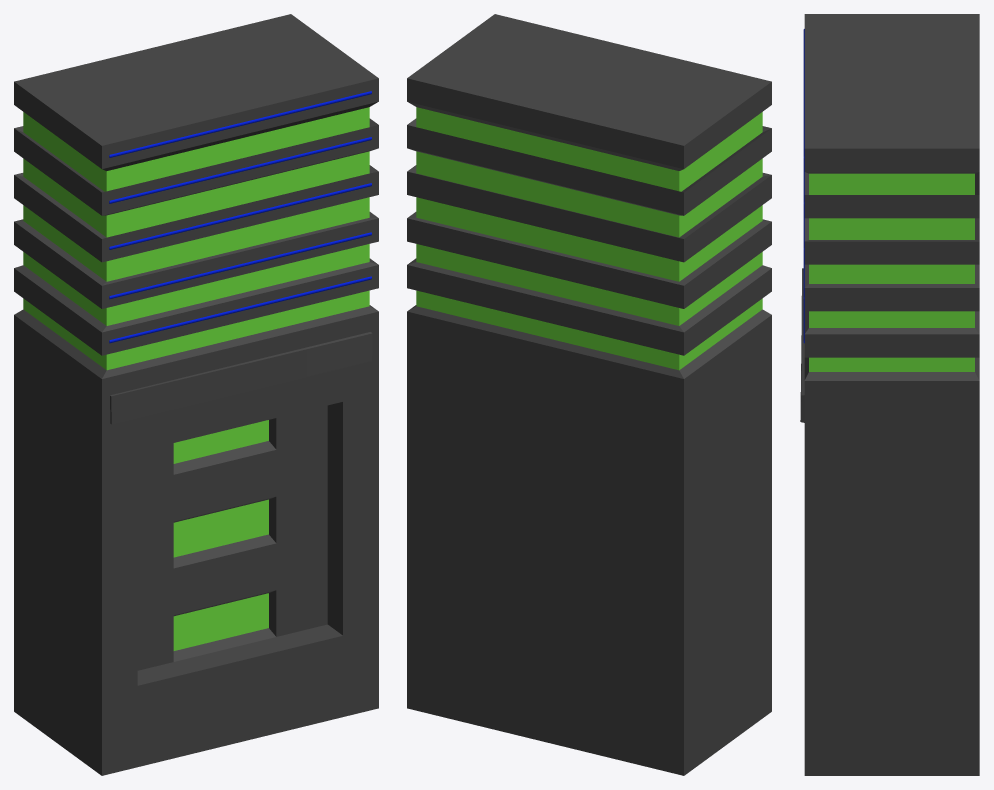
The model's file is EdificioGothMommys.fbx.
3 renders of one model, left to right at view 1: azimuth 30°, elevation 25°; view 2: azimuth 150°, elevation 25°; view 3: azimuth 270°, elevation 25°, orthographic.
Visible parts, largest first — view 1: Tall Building; view 2: Tall Building; view 3: Tall Building.
Boxes of the visible parts, <box> form: Tall Building: <box>14,14,378,775</box>; Tall Building: <box>407,14,771,775</box>; Tall Building: <box>800,14,979,775</box>.
Bounding box in the file's own units: 4.03 × 2.26 × 8.75.
